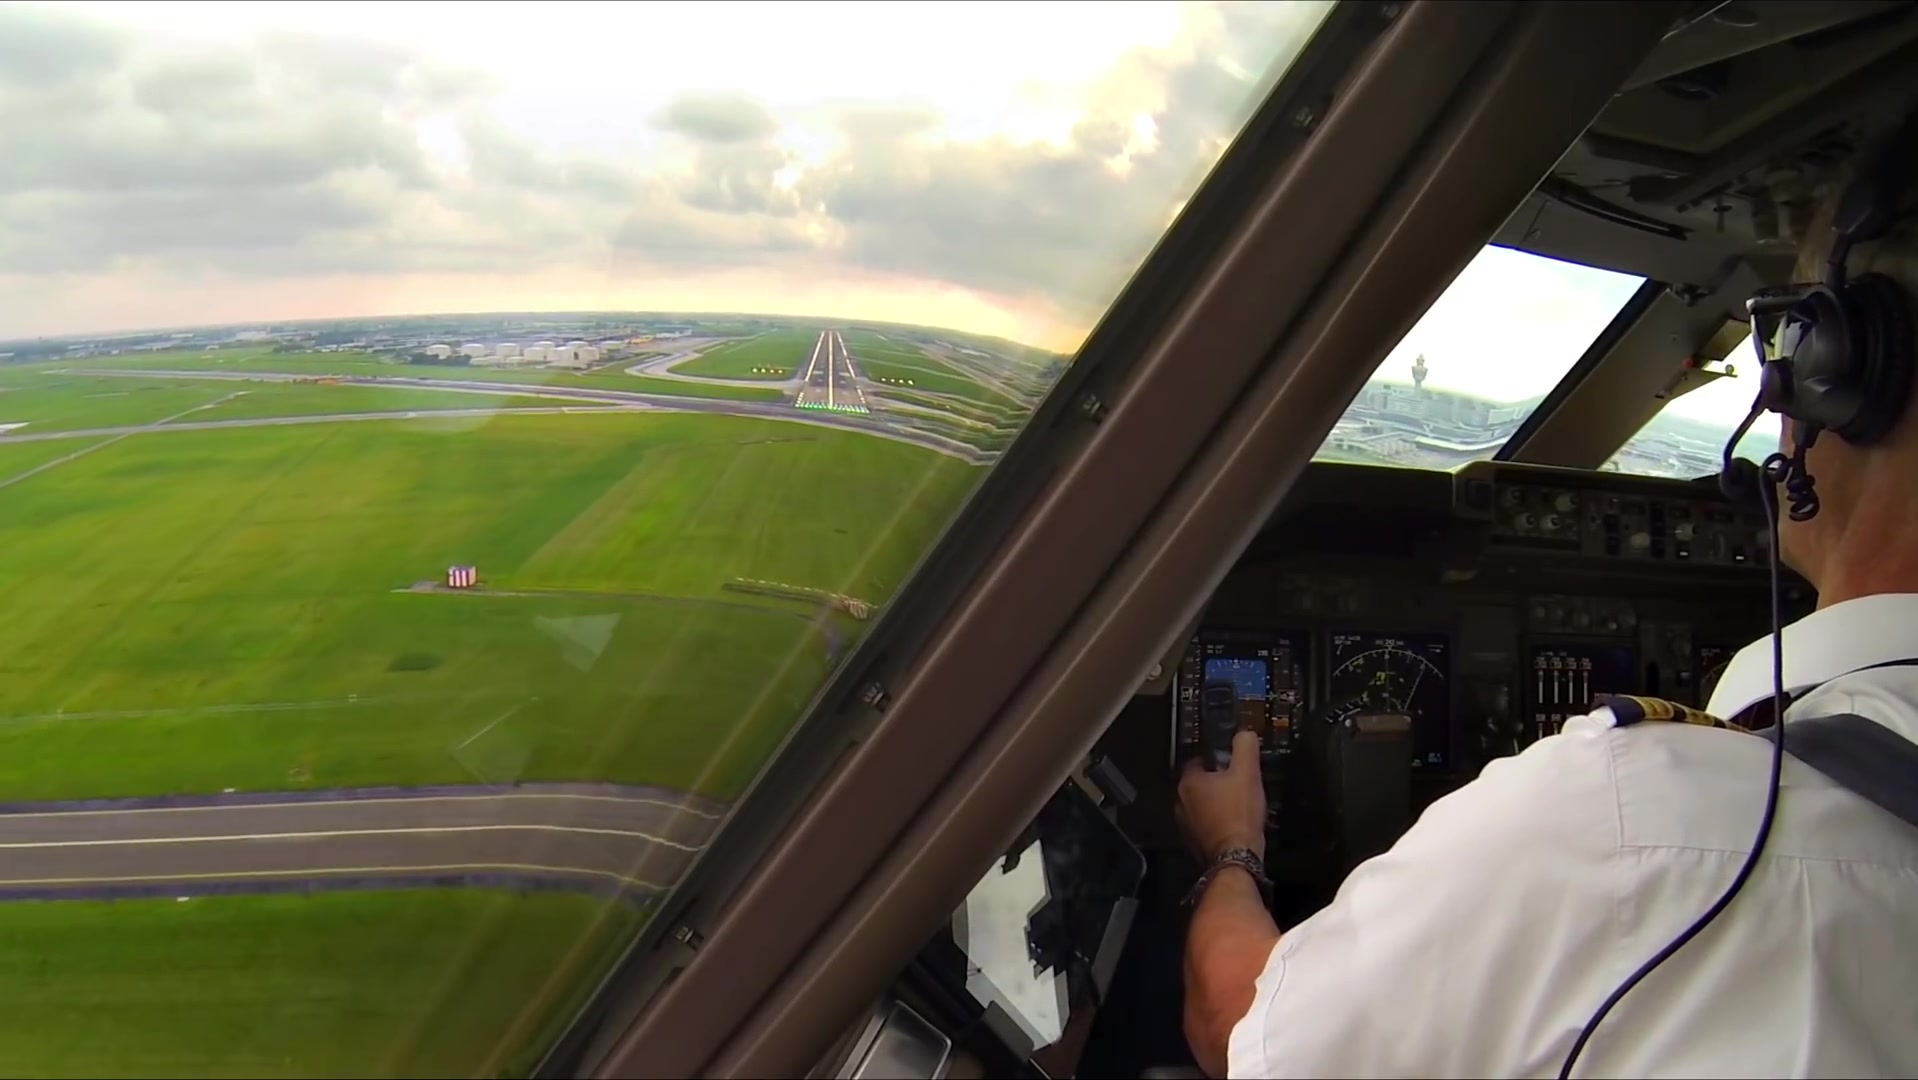entrance: (792, 398, 868, 411)
runway: (789, 329, 873, 414)
